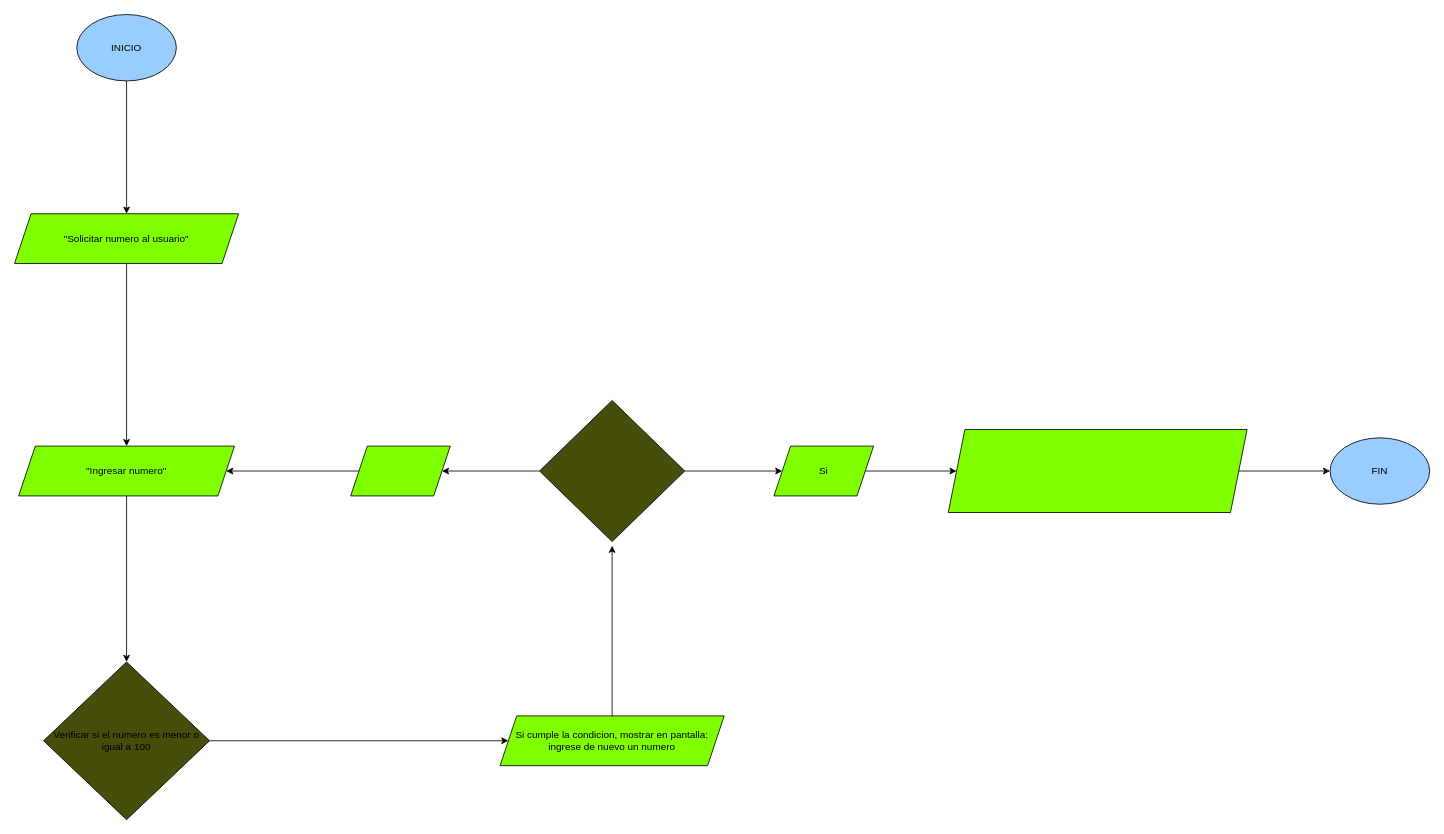
This 1444x834 diagram has some shape labels left out. Each missing label, with the box of its shape:
Mostrar en pantalla: Has ingresado un numero mayor a 100: (947, 429, 1247, 513)
NO: (350, 445, 450, 496)
¿El numero es mayor a 100?: (539, 400, 685, 542)
